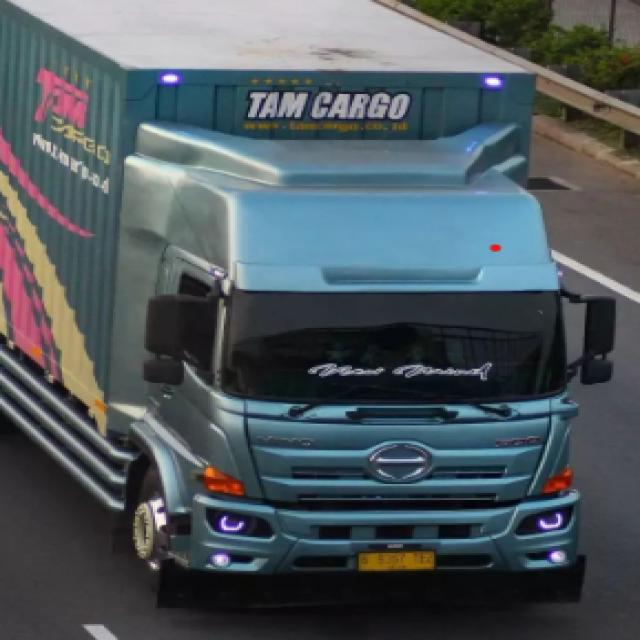truck: (0, 0, 624, 608)
